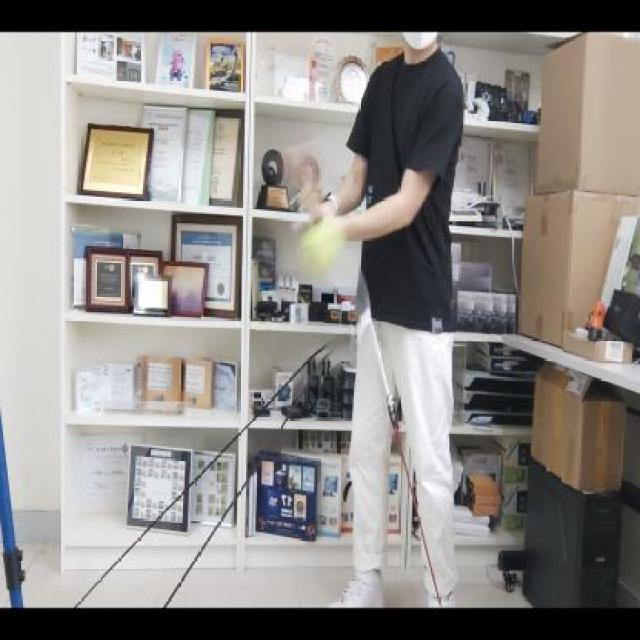baseball: (295, 212, 348, 282)
